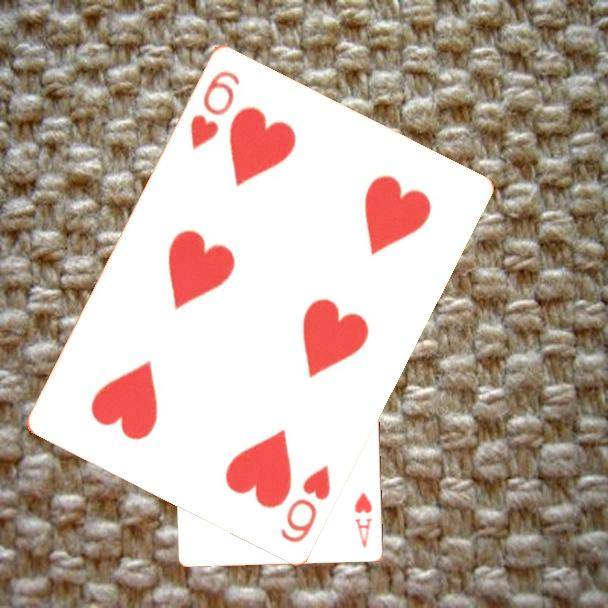h01: (351, 488, 375, 550)
h06: (186, 66, 243, 152), (276, 460, 333, 545)
